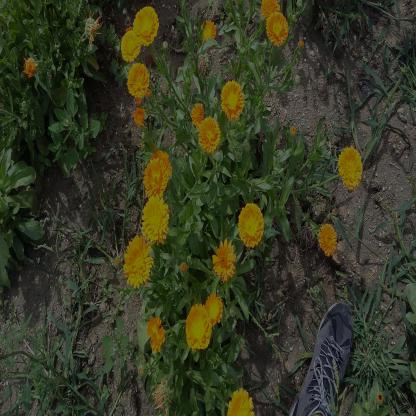marigold: (140, 195, 170, 238), (124, 240, 151, 287), (185, 306, 212, 350), (239, 202, 263, 245), (340, 146, 362, 188), (221, 80, 244, 118), (134, 6, 158, 42), (127, 63, 150, 97), (144, 161, 167, 195), (214, 244, 235, 276), (318, 223, 338, 254), (199, 121, 220, 150), (267, 14, 288, 43), (148, 314, 164, 352), (120, 31, 140, 56), (206, 294, 222, 324), (261, 0, 281, 16), (202, 22, 217, 40), (190, 106, 204, 124)
